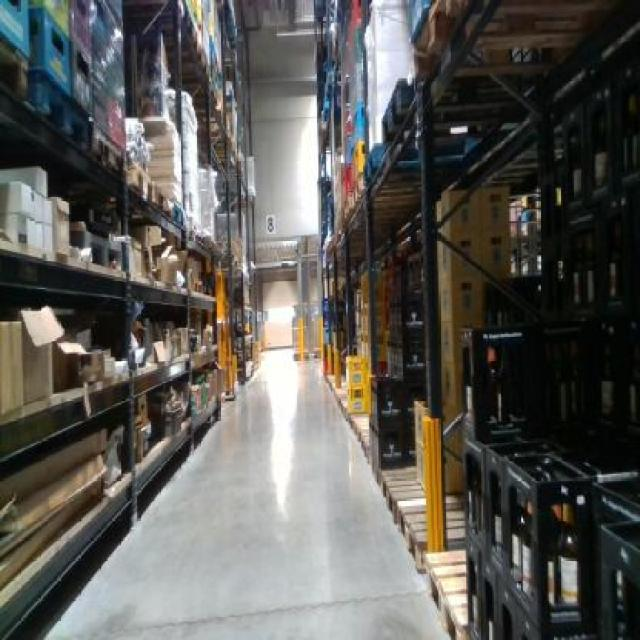ground: (37, 345, 461, 638)
pallet: (376, 463, 465, 576), (402, 0, 482, 87), (322, 373, 372, 475), (375, 66, 426, 160), (420, 548, 467, 638)
